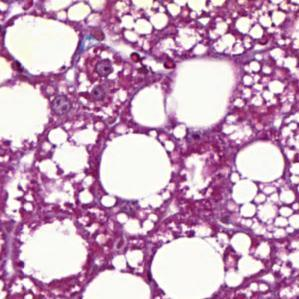steatosis: (95, 133, 176, 202), (233, 139, 286, 183)
